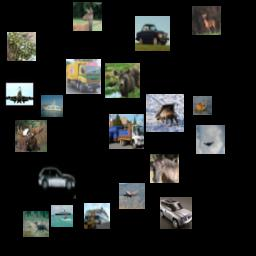airplane: (4, 78, 36, 110), (196, 125, 225, 154), (119, 183, 145, 209)
automobile: (38, 161, 76, 199), (135, 16, 170, 51), (160, 197, 192, 229)
bird: (193, 96, 212, 115)
deer: (146, 94, 184, 132), (105, 63, 140, 98), (15, 120, 47, 152), (192, 6, 221, 35), (73, 2, 102, 31), (23, 211, 49, 237)
frog: (7, 32, 36, 61)
ship: (84, 203, 110, 229), (41, 95, 63, 117), (51, 205, 73, 227)
truck: (66, 59, 101, 94), (109, 114, 144, 149)
